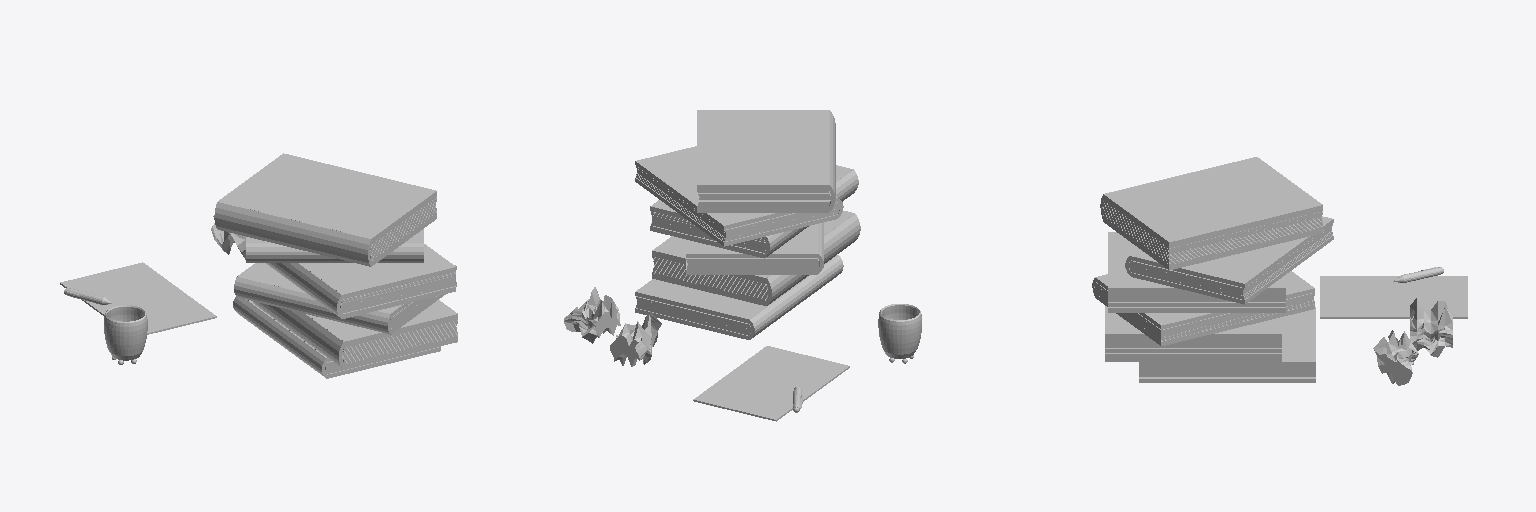
File: Book-Case.obj
3 renders of one model, left to right at view 1: azimuth 30°, elevation 25°; view 2: azimuth 150°, elevation 25°; view 3: azimuth 270°, elevation 25°, orthographic.
Parts seen in each view (by area): view 1: Box110, Box16, Box111, Box75, Box61, Line01, Box94, Box03, Box31, Box30, Box76, Box60 (+4 smaller); view 2: Box110, Box16, Box93, Box02, Line01, Box03, Box113, Box60, Box17, Box31, Box30, Box80 (+6 smaller); view 3: Box110, Box16, Box93, Box02, Box75, Box17, Box30, Box113, Box60, Box112, Box77, Box32 (+3 smaller).
Boxes of the visible parts, x1=… form: Box110: x1=218, y1=153, x2=436, y2=243; Box16: x1=60, y1=262, x2=216, y2=334; Box111: x1=214, y1=202, x2=372, y2=266; Box75: x1=300, y1=244, x2=455, y2=299; Box61: x1=234, y1=277, x2=391, y2=333; Line01: x1=104, y1=305, x2=147, y2=360; Box94: x1=246, y1=242, x2=423, y2=262; Box03: x1=233, y1=297, x2=326, y2=378; Box31: x1=253, y1=301, x2=346, y2=368; Box30: x1=307, y1=300, x2=457, y2=346; Box76: x1=266, y1=263, x2=344, y2=318; Box60: x1=237, y1=263, x2=456, y2=317; Box110: x1=697, y1=110, x2=828, y2=189; Box16: x1=693, y1=346, x2=849, y2=421; Box93: x1=635, y1=146, x2=837, y2=229; Box02: x1=635, y1=255, x2=836, y2=323; Line01: x1=878, y1=304, x2=921, y2=358; Box03: x1=749, y1=255, x2=843, y2=339; Box113: x1=564, y1=287, x2=620, y2=343; Box60: x1=686, y1=224, x2=817, y2=257; Box17: x1=610, y1=312, x2=661, y2=366; Box31: x1=764, y1=214, x2=860, y2=305; Box30: x1=652, y1=211, x2=854, y2=282; Box80: x1=635, y1=178, x2=837, y2=246; Box110: x1=1104, y1=157, x2=1322, y2=247; Box16: x1=1320, y1=276, x2=1467, y2=318; Box93: x1=1131, y1=216, x2=1333, y2=287; Box02: x1=1139, y1=307, x2=1315, y2=366; Box75: x1=1108, y1=232, x2=1285, y2=292; Box17: x1=1410, y1=298, x2=1452, y2=357; Box30: x1=1105, y1=306, x2=1281, y2=338; Box113: x1=1373, y1=330, x2=1418, y2=385; Box60: x1=1096, y1=271, x2=1314, y2=329; Box112: x1=1104, y1=217, x2=1322, y2=270; Box77: x1=1108, y1=307, x2=1285, y2=312; Box32: x1=1105, y1=356, x2=1281, y2=361.
Bounding box in the file's own units: 107 × 51 × 116.